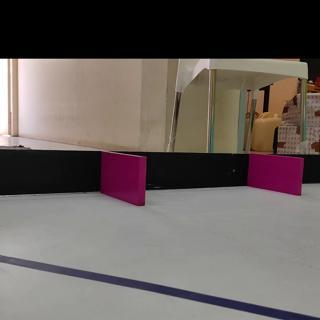xparking: (103, 157, 145, 205), (252, 157, 301, 195)
